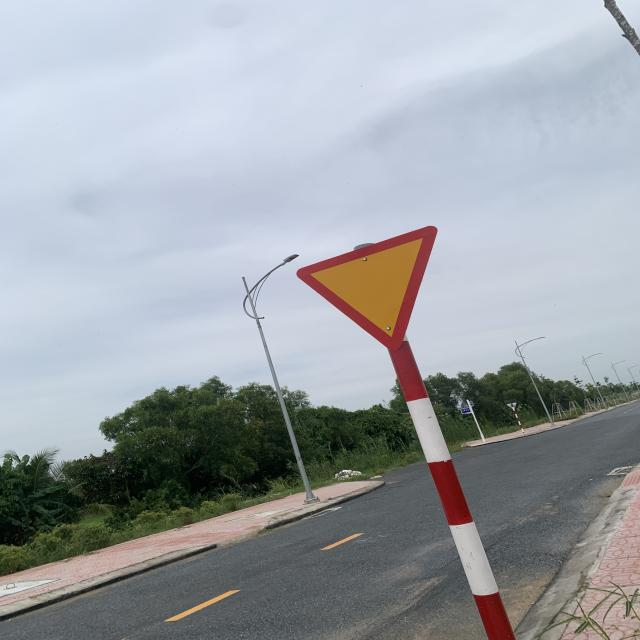Gioi_Han_Toc_Do_25: (296, 225, 436, 352)
